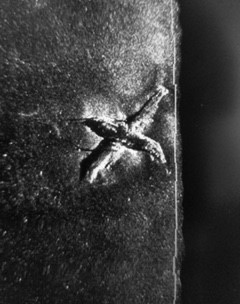plane: (83, 84, 169, 185)
